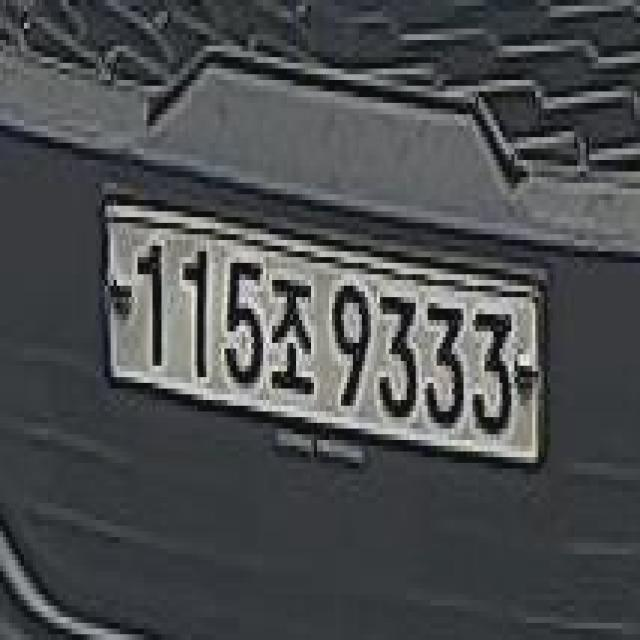illegal_plate: (99, 183, 548, 488)
